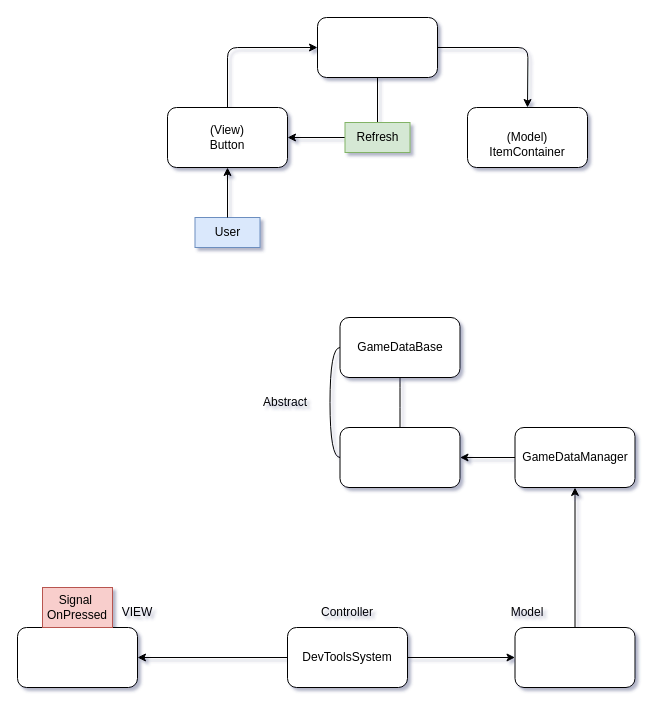
This 659x711 diagram has some shape labels left out. Each missing label, with the centre of its shape:
"(Controller) ItemContainer Manager" goes at (377,47).
"BuildingInventory" goes at (574,657).
"GroundBtn" goes at (77,657).
"GroundDataBase" goes at (399,457).
